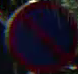No waiting: (4, 0, 77, 73)
